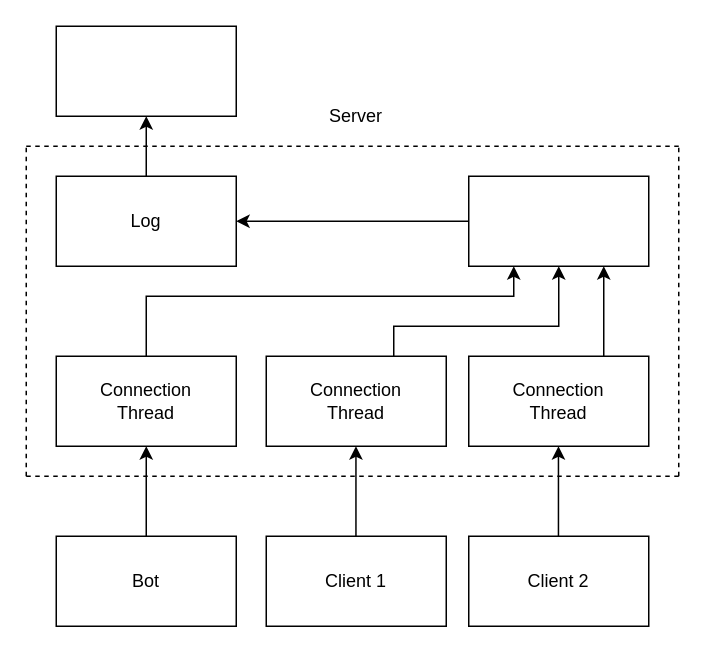
The diagram is 707 pixels wide and 653 high, and some of its shapes have lost their labels. The centre of each missing label's shape, as x and y in pixels:
"Session" goes at (558,220).
"Stats" goes at (145,70).
